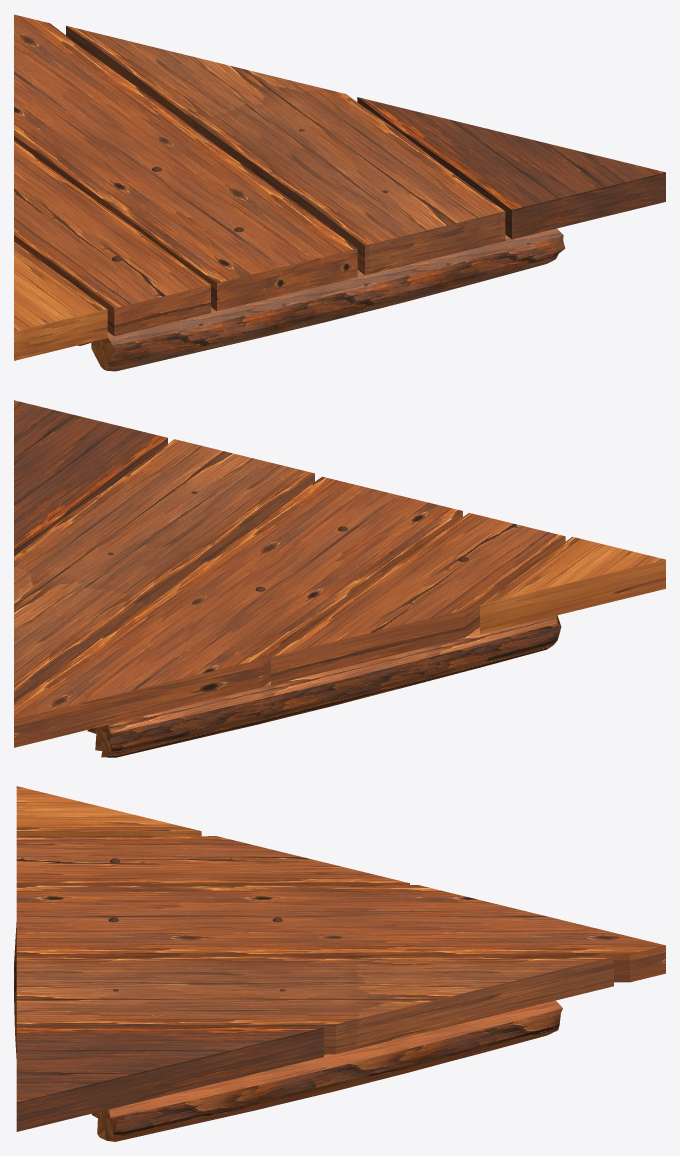
Rendered from floor_triangle__plank_root.glb.
3 views of the same model, one above another, from view 1: azimuth 30°, elevation 25°; view 2: azimuth 150°, elevation 25°; view 3: azimuth 270°, elevation 25° (orthographic).
Visible parts, largest first — view 1: model; view 2: model; view 3: model.
Boxes of the visible parts, <box> form: model: <box>14,14,665,371</box>; model: <box>14,400,665,757</box>; model: <box>14,786,665,1141</box>.
Size of the model in its own units: 1.98 by 0.2337 by 1.72.
17 materials, 17 textured.
